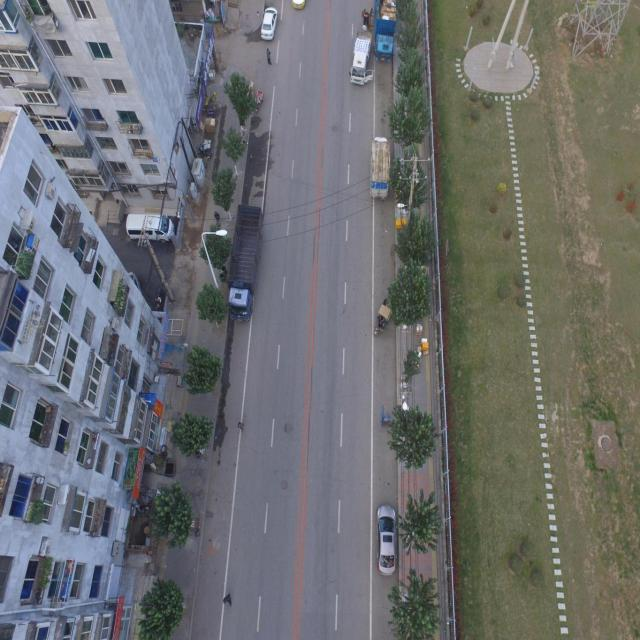p3rson: (222, 592, 232, 606), (376, 314, 385, 328), (265, 47, 272, 64), (364, 11, 370, 28), (362, 7, 367, 26), (214, 210, 220, 224), (236, 421, 244, 431)
